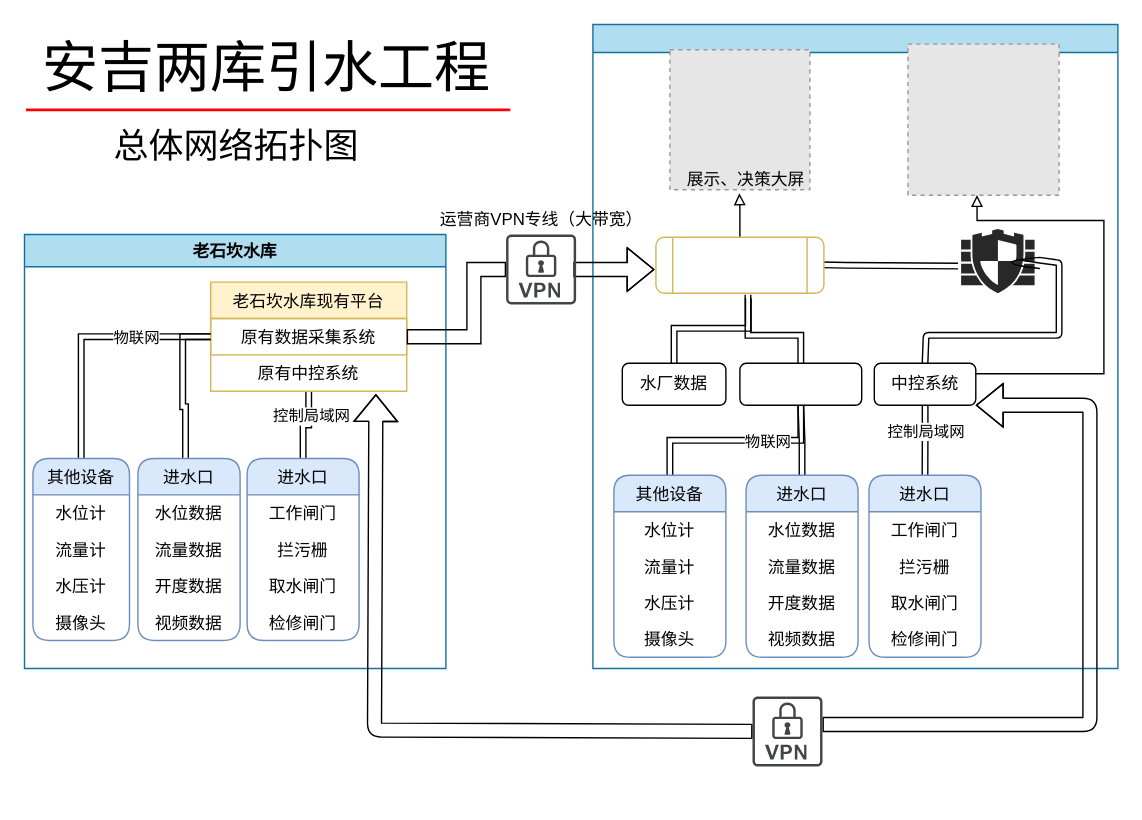
The diagram is 1142 pixels wide and 820 high, and some of its shapes have lost their labels. Grey dashed boxes stand in for pictures. The shapes that lost their labels are listed below. From the top down, each one's box as (x1, y1, x2, y2) in pixels, then its label:
(654, 236, 824, 293): 安吉两库引水工程智慧管护系统
(960, 228, 1034, 293): 工业网闸
(592, 23, 1118, 668): 赋石水库
(738, 362, 862, 405): 数据集成系统
(752, 696, 822, 766): 运营商VPN专线（小带宽）
